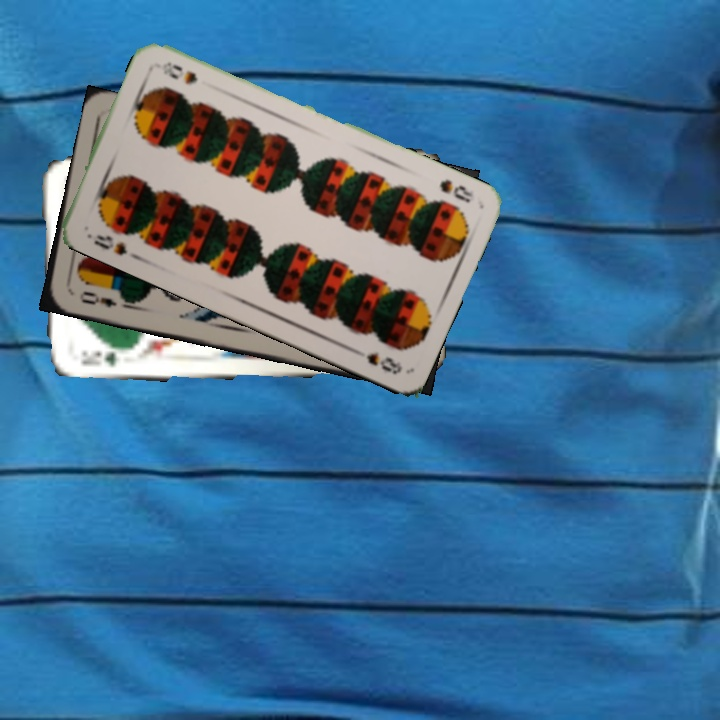EO: (75, 287, 119, 310)
GK: (77, 347, 119, 369)
S8: (435, 175, 477, 206), (89, 230, 130, 258)
